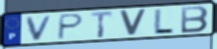B: (180, 5, 210, 34)
L: (152, 8, 176, 34)
P: (56, 13, 86, 41)
T: (90, 10, 115, 39)
V: (118, 8, 149, 37), (25, 14, 55, 42)
